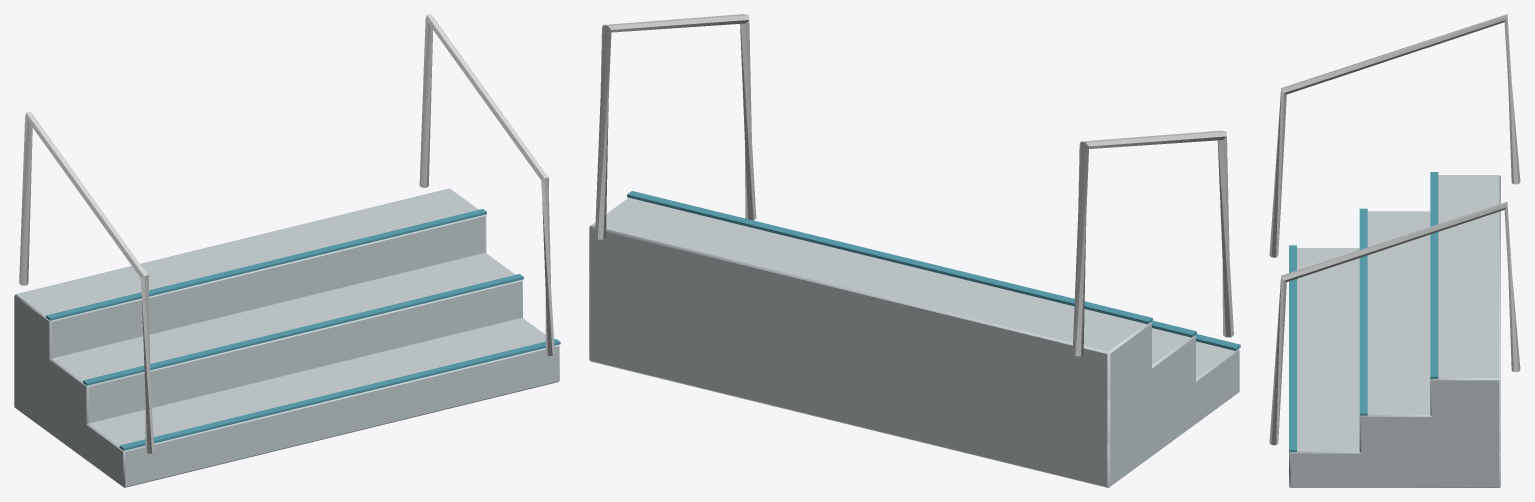
The model's file is pool_steps.glb.
The picture shows the model from 3 angles, left to right: view 1: azimuth 30°, elevation 25°; view 2: azimuth 150°, elevation 25°; view 3: azimuth 270°, elevation 25°; orthographic projection. The views are drawn at different scales.
Parts seen in each view (by area): view 1: PoolSteps; view 2: PoolSteps; view 3: PoolSteps.
Part boxes in pixels (<box>): PoolSteps: <box>14,14,560,487</box>; PoolSteps: <box>589,14,1240,487</box>; PoolSteps: <box>1269,14,1520,487</box>.
Size of the model in its own units: 2.4 by 1.52 by 1.24.
